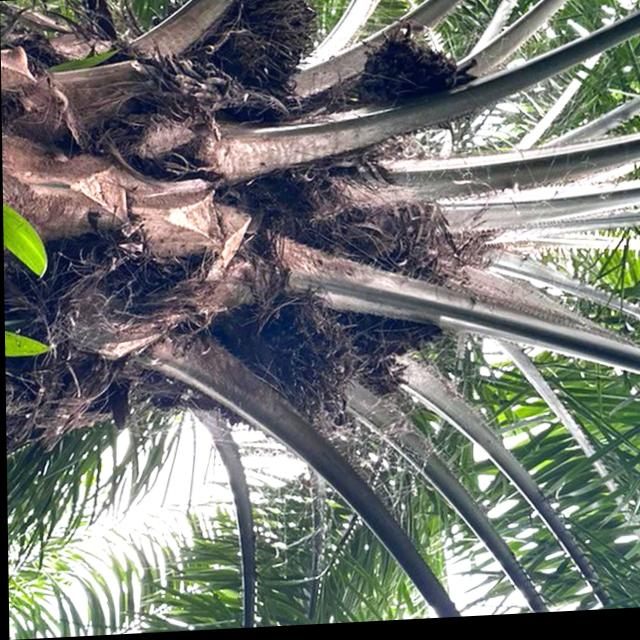unripe: (227, 274, 349, 434), (207, 0, 327, 110)
